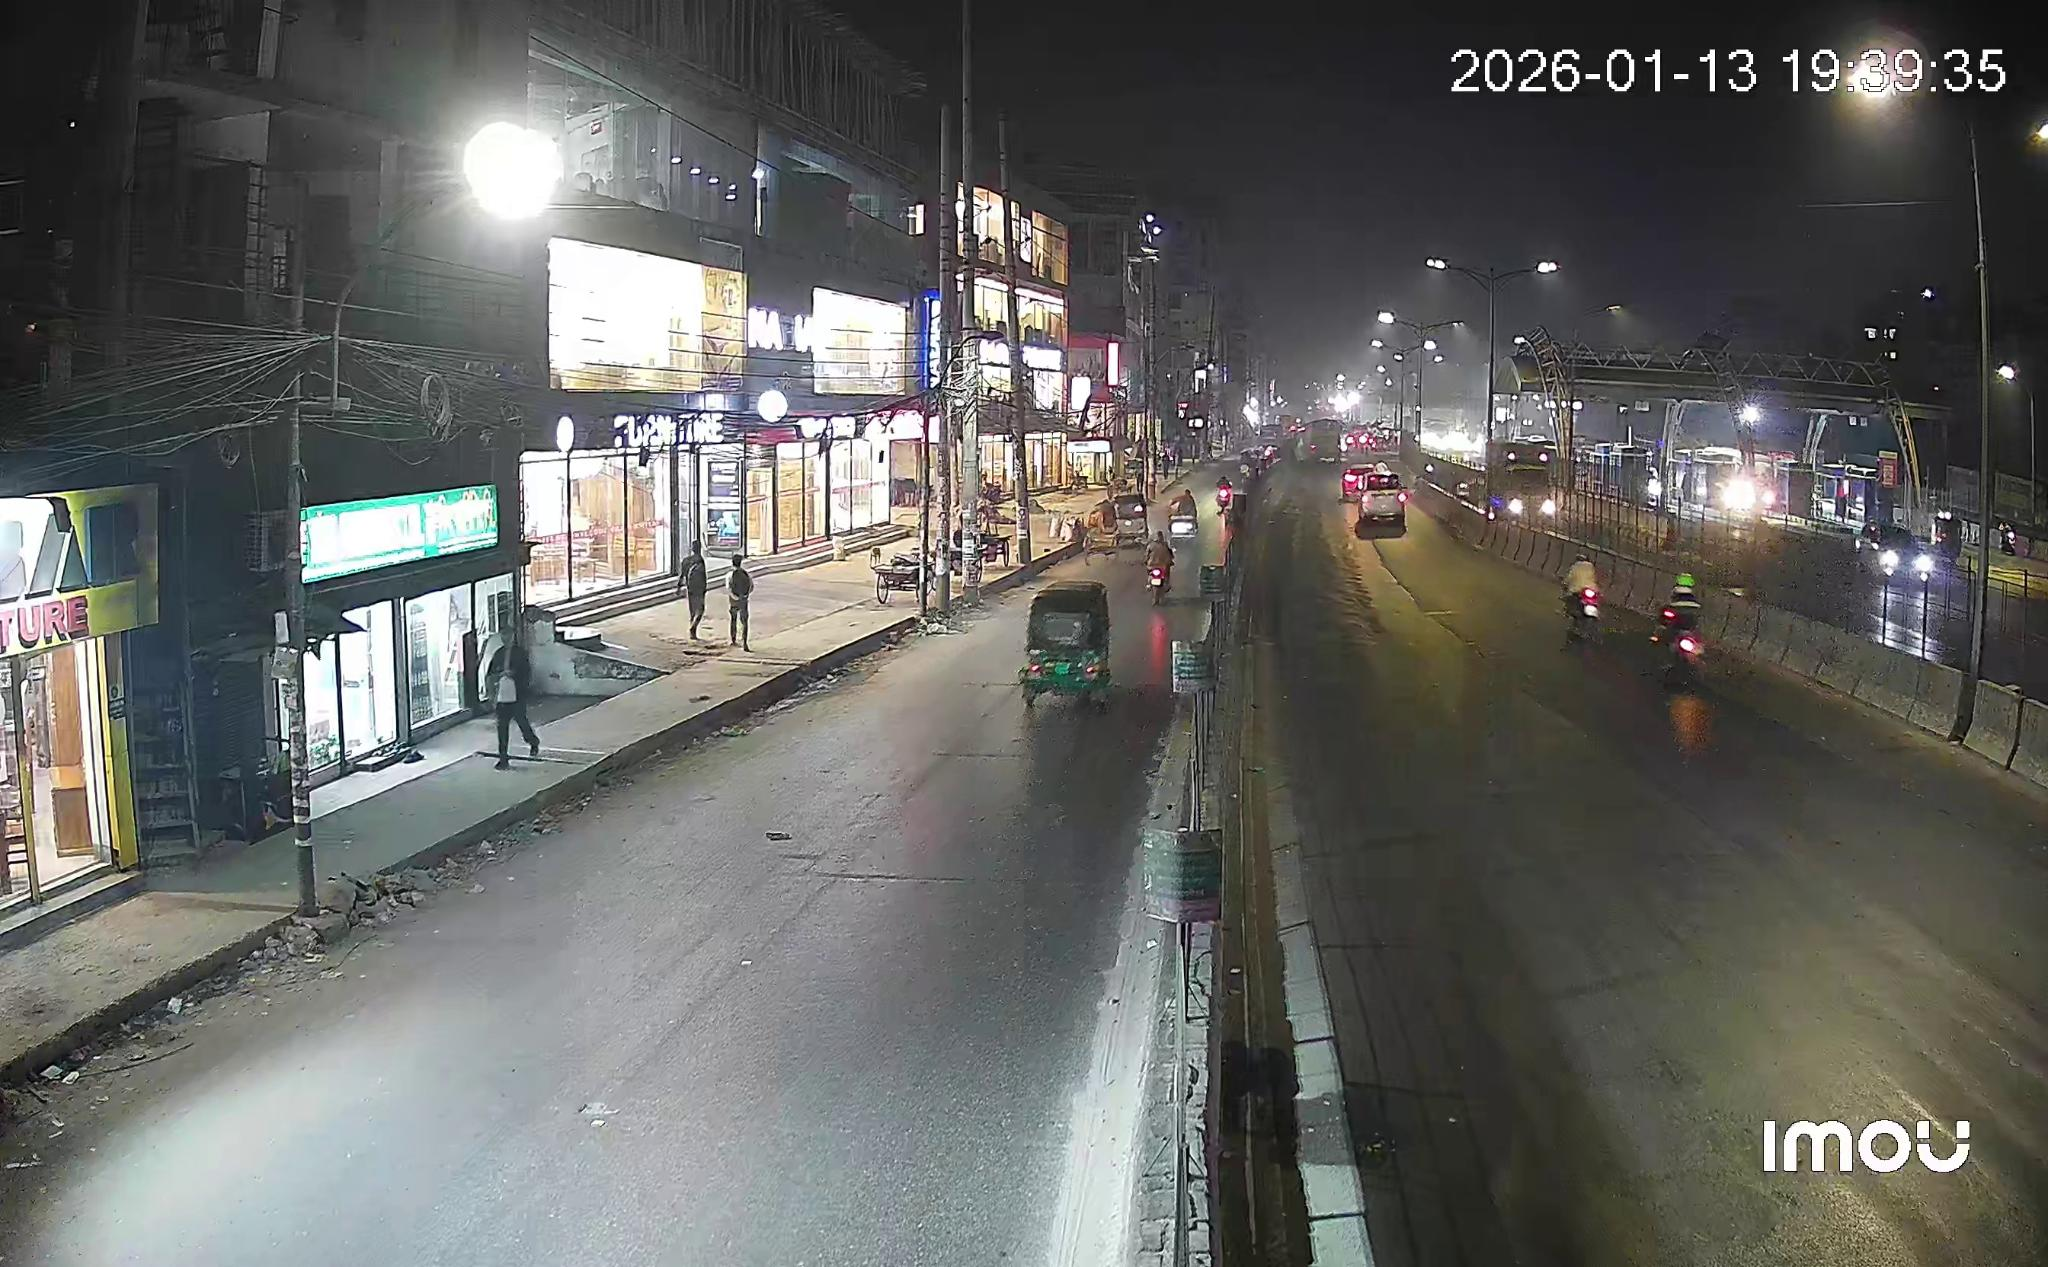CNG-Tempo: (1018, 581, 1113, 710)
Motorcycle: (1653, 575, 1704, 685), (1565, 554, 1602, 638), (1147, 534, 1173, 600)
